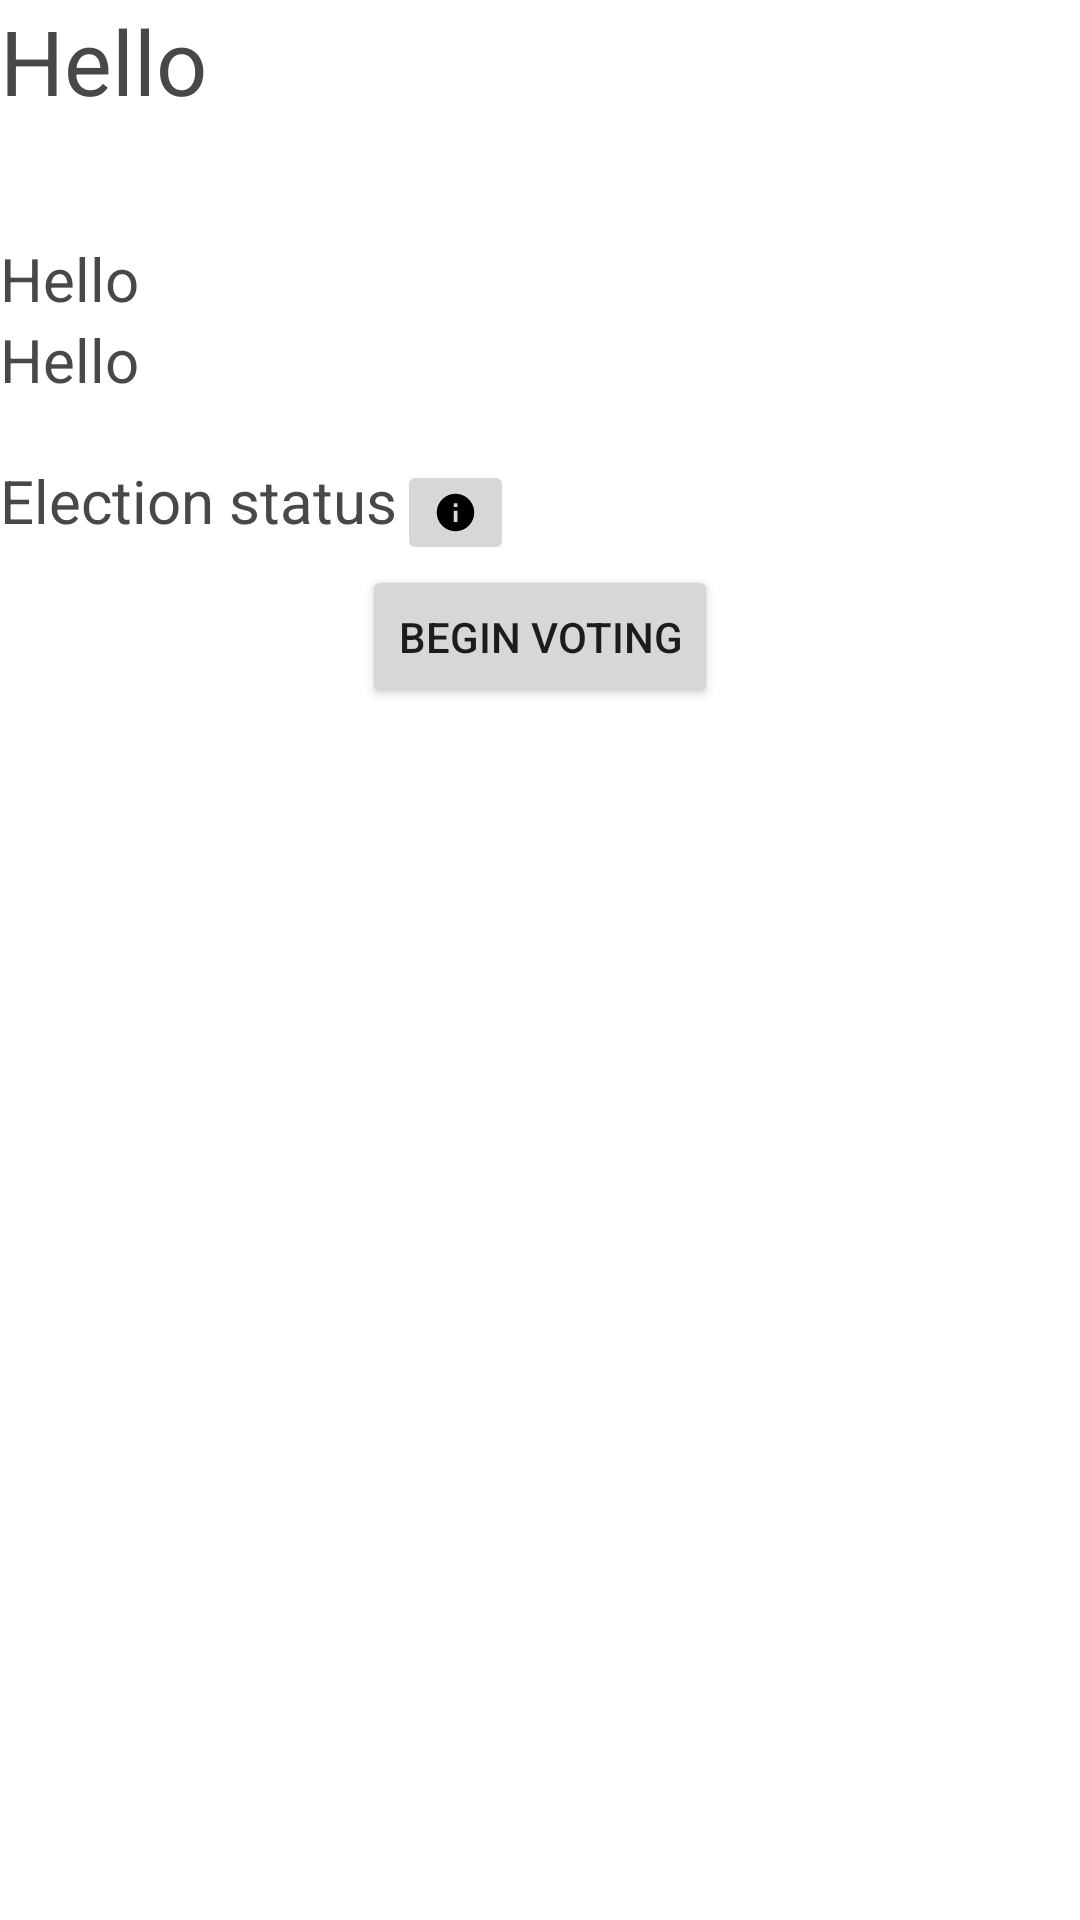

Where icons sit on this 1080w x 1920h app screen, as bbox=[x1, y1, x2, y2]:
info: bbox=[409, 478, 502, 547]
